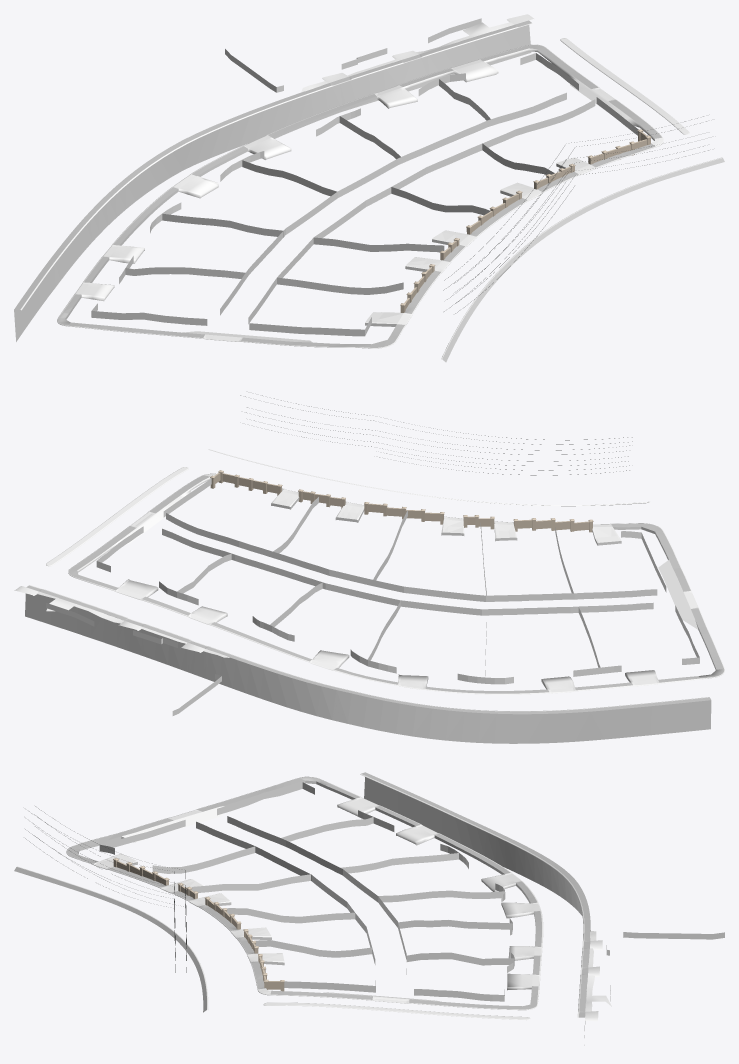
File: sidewalk_suburb4_updated.dae
3 renders of one model, top to bottom at view 1: azimuth 30°, elevation 25°; view 2: azimuth 150°, elevation 25°; view 3: azimuth 270°, elevation 25°, orthographic. The views are drawn at different scales.
Visible parts, largest first — view 1: sidewalk_suburb4_a3000.001; view 2: sidewalk_suburb4_a3000.001; view 3: sidewalk_suburb4_a3000.001.
Part boxes in pixels (left/top/right/bottom): sidewalk_suburb4_a3000.001: left=14, top=14, right=724, bottom=362; sidewalk_suburb4_a3000.001: left=14, top=395, right=724, bottom=743; sidewalk_suburb4_a3000.001: left=14, top=772, right=724, bottom=1045.
Bounding box in the file's own units: 174 × 175 × 40.52.
